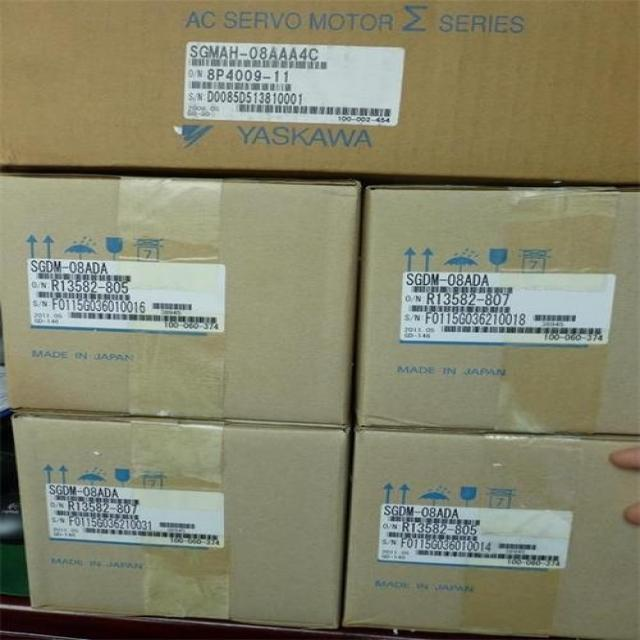box: (2, 0, 637, 185), (3, 171, 362, 429), (17, 412, 353, 629), (351, 185, 638, 436), (339, 429, 639, 639)
